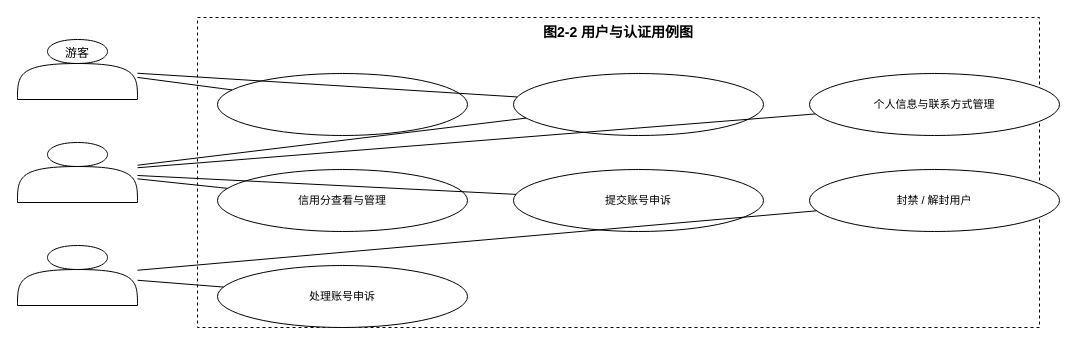
This 1077x345 diagram has some shape labels left out. Each missing label, with the centre of its shape:
"注册用户（师生）" goes at point (77, 172).
"注册账号（校园邮箱验证）" goes at point (342, 104).
"登录系统（JWT）" goes at point (638, 104).
"系统管理员" goes at point (77, 275).
